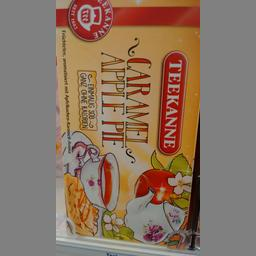tea: (55, 0, 198, 248)
